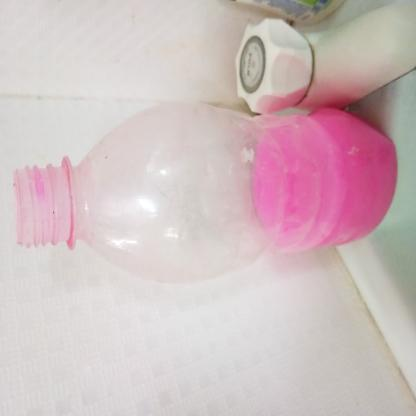bottle: (98, 16, 237, 416)
